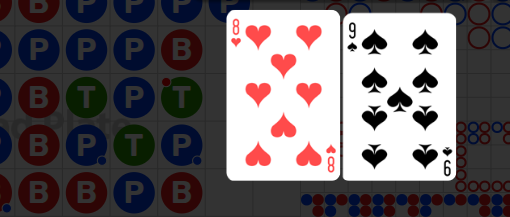8H: (230, 18, 243, 50)
9S: (441, 144, 454, 177)
